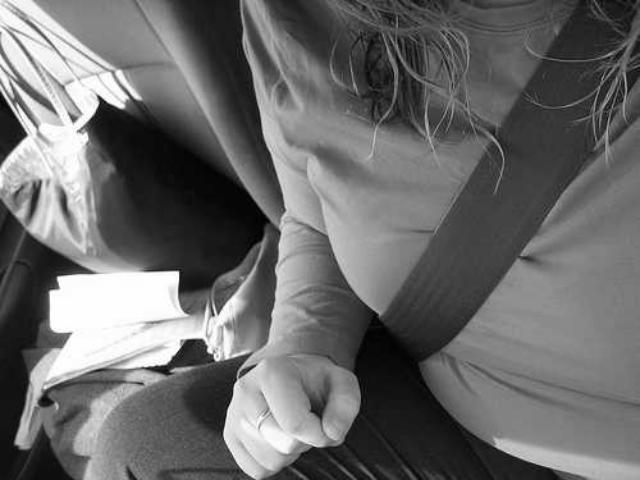Seatbelt: (360, 1, 640, 368)
